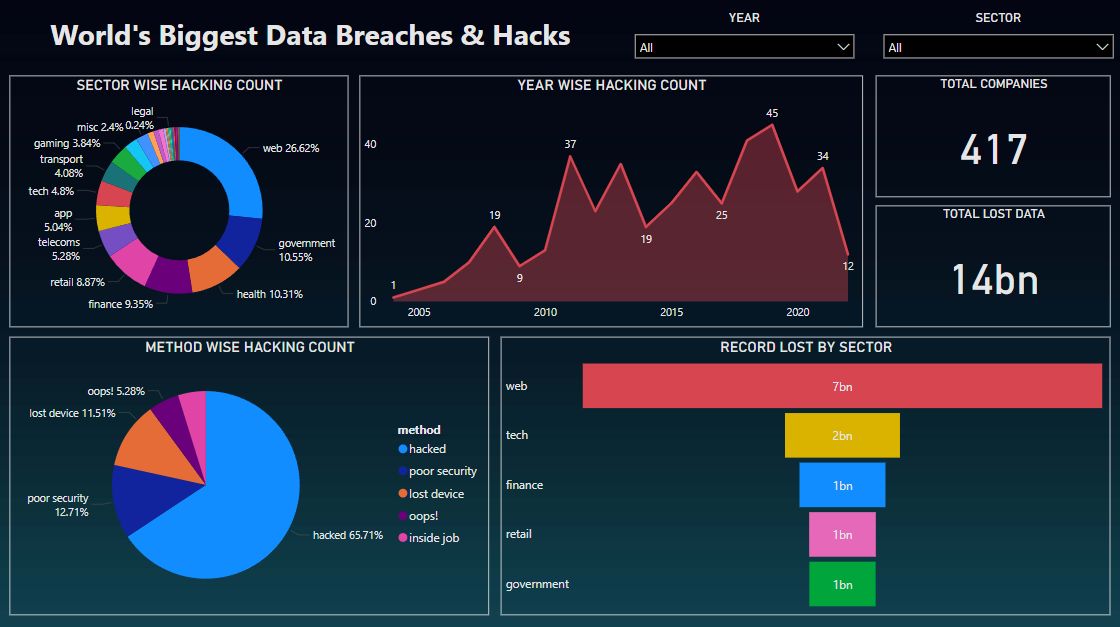

This screenshot's page, from the dashboard's own definition file:
{"tool":"powerbi","page":{"name":"Page 1","canvas":[1280,720],"ordinal":0},"visuals":[{"type":"textbox","box":[12.3,13.7,703.3,61.7],"z":0},{"type":"donutChart","title":"SECTOR WISE HACKING COUNT","fields":{"Category":["Balloon Race Data Breaches - LATEST - breaches.sector"],"Y":["CountNonNull(Balloon Race Data Breaches - LATEST - breaches.ID)"]},"box":[13.7,87.7,385.3,286.5],"z":1000},{"type":"pieChart","title":"METHOD WISE HACKING COUNT","fields":{"Category":["Balloon Race Data Breaches - LATEST - breaches.method"],"Y":["CountNonNull(Balloon Race Data Breaches - LATEST - breaches.ID)"]},"box":[13.7,385.3,545.7,316.7],"z":2000},{"type":"areaChart","title":"YEAR WISE HACKING COUNT","fields":{"Category":["Balloon Race Data Breaches - LATEST - breaches.year   "],"Y":["CountNonNull(Balloon Race Data Breaches - LATEST - breaches.organisation)"]},"box":[412.7,87.7,573.1,286.5],"z":3000},{"type":"funnel","title":"RECORD LOST BY SECTOR","fields":{"Category":["Balloon Race Data Breaches - LATEST - breaches.sector"],"Y":["Sum(Balloon Race Data Breaches - LATEST - breaches.records lost)"]},"box":[573.1,385.3,693.7,316.7],"z":4000},{"type":"card","title":"TOTAL LOST DATA","fields":{"Values":["Sum(Balloon Race Data Breaches - LATEST - breaches.records lost)"]},"box":[999.5,235.8,267.4,138.5],"z":5000},{"type":"card","title":"TOTAL COMPANIES","fields":{"Values":["CountNonNull(Balloon Race Data Breaches - LATEST - breaches.organisation)"]},"box":[999.5,87.7,267.4,138.5],"z":6000},{"type":"slicer","title":"YEAR","fields":{"Values":["Balloon Race Data Breaches - LATEST - breaches.year   "]},"box":[715.7,13.7,270.1,60.3],"z":7000},{"type":"slicer","title":"SECTOR","fields":{"Values":["Balloon Race Data Breaches - LATEST - breaches.sector"]},"box":[994,13.7,281.1,60.3],"z":8000}]}

Visuals, with their boxes in screenshot pixels (x1, y1, x2, y2), scaled from the page's 1280x720 canvas onto the 1120x627 screenshot:
textbox: select_region(11, 12, 626, 66)
"SECTOR WISE HACKING COUNT" donutChart: select_region(12, 76, 349, 326)
"METHOD WISE HACKING COUNT" pieChart: select_region(12, 336, 489, 611)
"YEAR WISE HACKING COUNT" areaChart: select_region(361, 76, 863, 326)
"RECORD LOST BY SECTOR" funnel: select_region(501, 336, 1108, 611)
"TOTAL LOST DATA" card: select_region(875, 205, 1109, 326)
"TOTAL COMPANIES" card: select_region(875, 76, 1109, 197)
"YEAR" slicer: select_region(626, 12, 863, 64)
"SECTOR" slicer: select_region(870, 12, 1116, 64)
